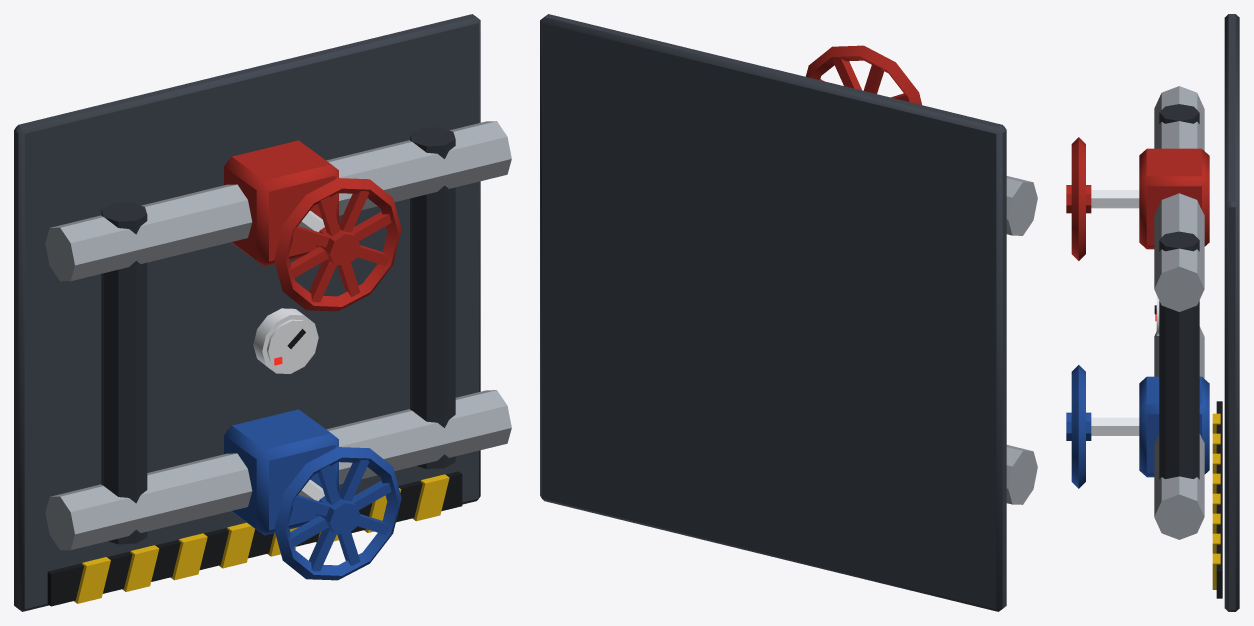
File: valve_twin_isolation_station.glb
3 views of the same model, side by side, from view 1: azimuth 30°, elevation 25°; view 2: azimuth 150°, elevation 25°; view 3: azimuth 270°, elevation 25° (orthographic). The views are drawn at different scales.
Visible parts, largest first — view 1: valve_twin_isolation_station; view 2: valve_twin_isolation_station; view 3: valve_twin_isolation_station.
Part boxes in pixels (bbox=[...]): valve_twin_isolation_station: bbox=[14, 14, 511, 611]; valve_twin_isolation_station: bbox=[540, 14, 1037, 611]; valve_twin_isolation_station: bbox=[1066, 14, 1239, 611].
Bounding box in the file's own units: 0.9 × 0.9 × 0.345.
